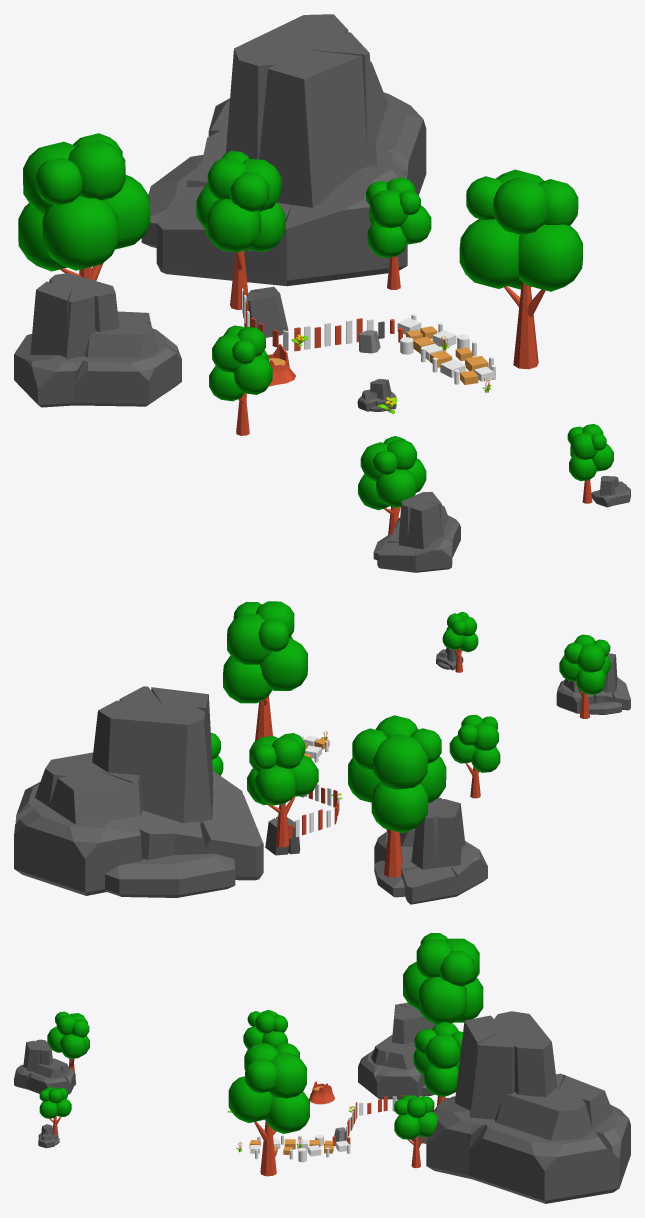
File: BackGround 4.fbx
3 views of the same model, one above another, from view 1: azimuth 30°, elevation 25°; view 2: azimuth 150°, elevation 25°; view 3: azimuth 270°, elevation 25° (orthographic). The views are drawn at different scales.
Parts seen in each view (by area): view 1: stone5, stone4, Tree, Tree5, Tree7, stone6, Tree6, Tree4, Tree10, deco1, deco, Tree9 (+2 smaller); view 2: stone5, Tree, Tree5, stone4, Tree7, Tree10, Tree4, stone6, deco1, Tree9, deco; view 3: stone5, Tree5, Tree, stone4, Tree7, stone6, Tree6, Tree10, deco, Tree4, Tree9, deco1 (+1 smaller).
Boxes of the visible parts, bbox=[...] form: stone5: bbox=[141, 14, 426, 286]; stone4: bbox=[14, 273, 181, 407]; Tree: bbox=[18, 133, 150, 280]; Tree5: bbox=[459, 169, 582, 369]; Tree7: bbox=[196, 151, 285, 309]; stone6: bbox=[373, 491, 460, 572]; Tree6: bbox=[366, 177, 431, 289]; Tree4: bbox=[209, 325, 272, 435]; Tree10: bbox=[358, 436, 426, 534]; deco1: bbox=[241, 286, 384, 353]; deco: bbox=[390, 314, 495, 384]; Tree9: bbox=[567, 424, 613, 503]; stone5: bbox=[14, 686, 263, 897]; Tree: bbox=[348, 715, 446, 877]; Tree5: bbox=[223, 601, 307, 740]; stone4: bbox=[374, 797, 487, 904]; Tree7: bbox=[247, 733, 318, 847]; Tree10: bbox=[559, 634, 610, 718]; Tree4: bbox=[449, 714, 500, 798]; stone6: bbox=[556, 653, 630, 714]; deco1: bbox=[265, 783, 339, 855]; Tree9: bbox=[442, 611, 478, 672]; deco: bbox=[300, 735, 329, 762]; stone5: bbox=[426, 1011, 630, 1203]; Tree5: bbox=[228, 1043, 309, 1176]; Tree: bbox=[403, 933, 483, 1024]; stone4: bbox=[358, 1002, 435, 1099]; Tree7: bbox=[413, 1021, 462, 1105]; stone6: bbox=[14, 1039, 75, 1094]; Tree6: bbox=[394, 1095, 437, 1168]; Tree10: bbox=[47, 1011, 89, 1085]; deco: bbox=[249, 1134, 350, 1162]; Tree4: bbox=[243, 1010, 287, 1049]; Tree9: bbox=[39, 1087, 71, 1137]; deco1: bbox=[334, 1095, 434, 1143].
Size of what is drawn, in the model's own units: 2809 by 1184 by 4515.
Materials: 2 (2 with a texture image).
